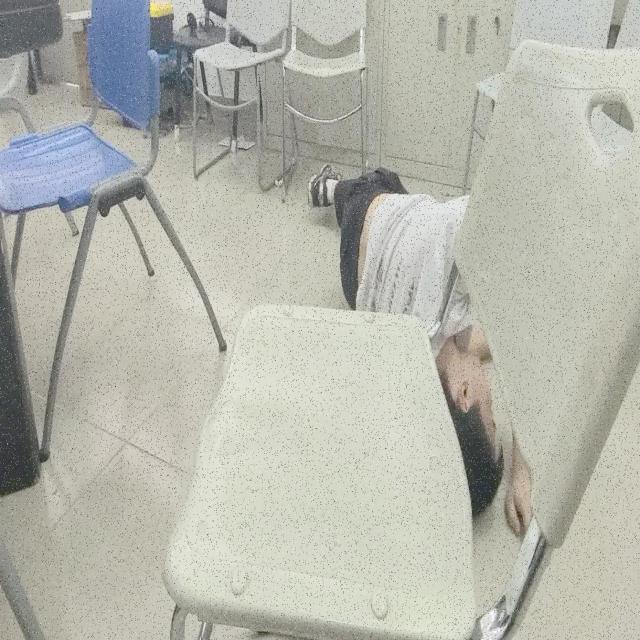fall: (306, 156, 546, 540)
